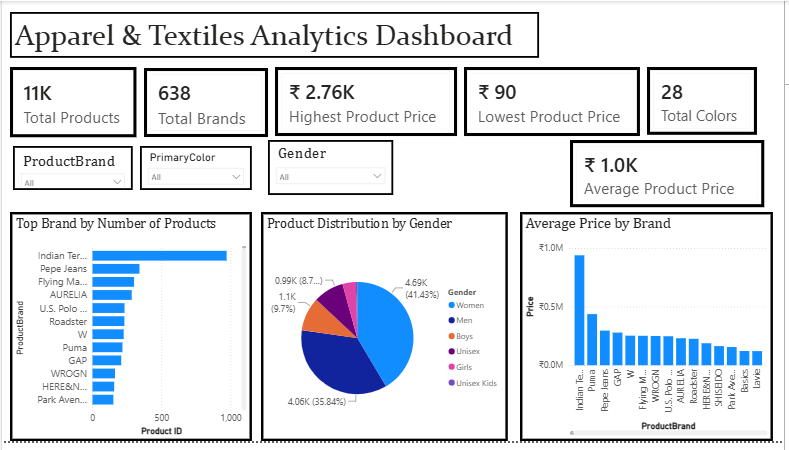

The page's visual inventory and layout, read from the dashboard file:
{"tool":"powerbi","page":{"name":"Page 1","canvas":[1280,720],"ordinal":0},"visuals":[{"type":"cardVisual","title":"Total Products","fields":{"Data":["cleaned_fashion_dataset.Total Products"]},"box":[13.1,108,206.6,115.1],"z":0},{"type":"cardVisual","fields":{"Data":["cleaned_fashion_dataset.Total Brands"]},"box":[232.4,109.7,203.2,113.4],"z":1000},{"type":"cardVisual","title":"Average Product Price","fields":{"Data":["cleaned_fashion_dataset.Average Price"]},"box":[929.7,227.5,317.5,109.7],"z":2000},{"type":"cardVisual","fields":{"Data":["cleaned_fashion_dataset.Highest Price"]},"box":[446.9,108,297.9,112.9],"z":3000},{"type":"cardVisual","fields":{"Data":["cleaned_fashion_dataset.Lowest Price"]},"box":[756.2,108,288.1,112.9],"z":4000},{"type":"cardVisual","fields":{"Data":["cleaned_fashion_dataset.Total Colors"]},"box":[1055.8,108,180.1,111.3],"z":5000},{"type":"clusteredBarChart","title":"Top Brand by Number of  Products","fields":{"Category":["cleaned_fashion_dataset.ProductBrand"],"Y":["CountNonNull(cleaned_fashion_dataset.ProductID)"]},"box":[13.1,345.4,396.1,374.8],"z":6000},{"type":"pieChart","title":"Product Distribution by Gender","fields":{"Category":["cleaned_fashion_dataset.Gender"],"Y":["CountNonNull(cleaned_fashion_dataset.ProductID)"]},"box":[423.9,345.4,404.3,374.8],"z":7000},{"type":"clusteredColumnChart","title":"Average Price  by Brand","fields":{"Category":["cleaned_fashion_dataset.ProductBrand"],"Y":["Sum(cleaned_fashion_dataset.Price (INR))"]},"box":[847.9,345.4,414.1,374.8],"z":8000},{"type":"textbox","box":[13.1,18,865.9,75.3],"z":9000},{"type":"slicer","fields":{"Values":["cleaned_fashion_dataset.ProductBrand"]},"box":[18,237.3,196.4,72],"z":10000},{"type":"slicer","fields":{"Values":["cleaned_fashion_dataset.Gender"]},"box":[435.4,227.5,204.6,90],"z":11000},{"type":"slicer","fields":{"Values":["cleaned_fashion_dataset.PrimaryColor"]},"box":[225.9,237.3,183.3,72],"z":12000}]}

Visuals, with their boxes in screenshot pixels (x1, y1, x2, y2), scaled from the page's 1280x720 canvas onto the 789x450 screenshot:
"Total Products" cardVisual: region(8, 68, 135, 139)
cardVisual - cleaned_fashion_dataset.Total Brands: region(143, 69, 269, 139)
"Average Product Price" cardVisual: region(573, 142, 769, 211)
cardVisual - cleaned_fashion_dataset.Highest Price: region(275, 68, 459, 138)
cardVisual - cleaned_fashion_dataset.Lowest Price: region(466, 68, 644, 138)
cardVisual - cleaned_fashion_dataset.Total Colors: region(651, 68, 762, 137)
"Top Brand by Number of  Products" clusteredBarChart: region(8, 216, 252, 449)
"Product Distribution by Gender" pieChart: region(261, 216, 511, 449)
"Average Price  by Brand" clusteredColumnChart: region(523, 216, 778, 449)
textbox: region(8, 11, 542, 58)
slicer - cleaned_fashion_dataset.ProductBrand: region(11, 148, 132, 193)
slicer - cleaned_fashion_dataset.Gender: region(268, 142, 394, 198)
slicer - cleaned_fashion_dataset.PrimaryColor: region(139, 148, 252, 193)
